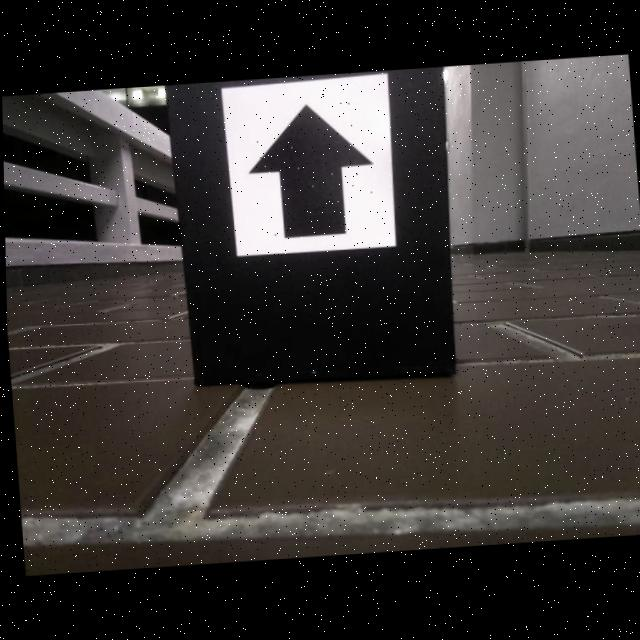UP: (247, 104, 373, 239)
